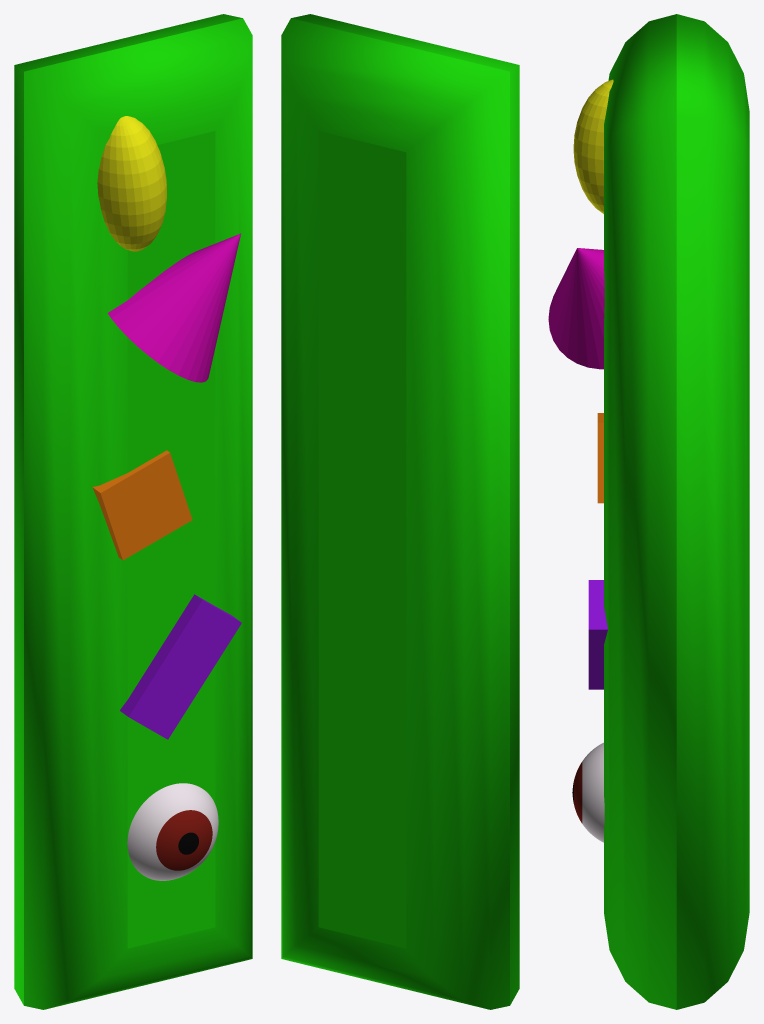
The model's file is l_green.fbx.
The picture shows the model from 3 angles, left to right: view 1: azimuth 30°, elevation 25°; view 2: azimuth 150°, elevation 25°; view 3: azimuth 270°, elevation 25°; orthographic projection. The views are drawn at different scales.
Visible parts, largest first — view 1: Text, Cone, Cube.001, Sphere.002, Sphere, Cube; view 2: Text; view 3: Text, Cone, Sphere.002, Sphere, Cube.001, Cube.
Boxes of the visible parts, x1=… form: Text: x1=14, y1=14, x2=252, y2=1009; Cone: x1=107, y1=233, x2=240, y2=382; Cube.001: x1=120, y1=594, x2=241, y2=739; Sphere.002: x1=97, y1=116, x2=166, y2=251; Sphere: x1=127, y1=783, x2=218, y2=880; Cube: x1=92, y1=450, x2=192, y2=560; Text: x1=281, y1=14, x2=519, y2=1009; Text: x1=604, y1=14, x2=749, y2=1009; Cone: x1=548, y1=248, x2=604, y2=369; Sphere.002: x1=573, y1=79, x2=613, y2=213; Sphere: x1=572, y1=742, x2=604, y2=842; Cube.001: x1=588, y1=580, x2=607, y2=689; Cube: x1=597, y1=413, x2=603, y2=503.
Size of the model in its own units: 19.3 by 78.6 by 16.03.
